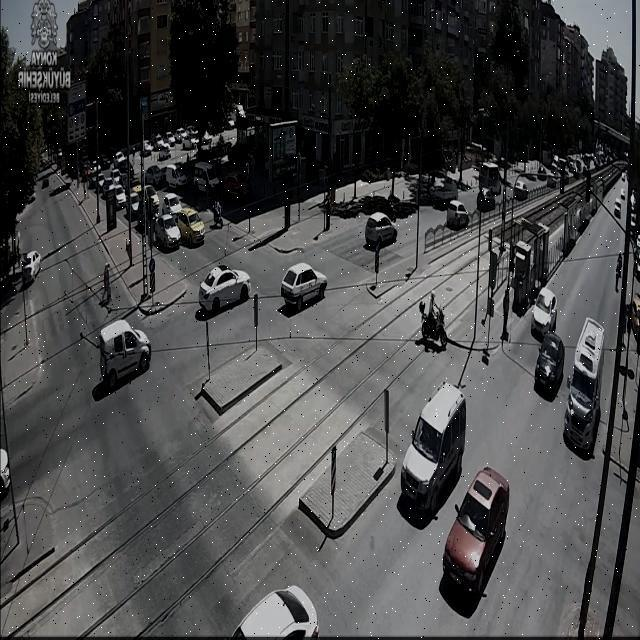Car: (441, 465, 511, 601), (399, 381, 466, 515), (228, 586, 318, 638), (98, 320, 152, 386), (198, 266, 250, 312), (280, 263, 328, 310), (535, 328, 566, 396), (532, 287, 558, 336), (364, 212, 398, 248), (175, 207, 207, 245), (153, 213, 182, 251), (136, 185, 162, 217), (193, 162, 219, 194), (430, 178, 458, 204), (479, 162, 501, 194), (447, 200, 470, 229), (21, 251, 41, 282), (122, 189, 143, 217), (0, 448, 11, 499), (161, 192, 184, 216), (144, 164, 167, 187), (104, 184, 126, 208), (165, 163, 186, 188), (476, 189, 495, 212), (200, 136, 213, 152), (114, 152, 126, 166), (614, 200, 622, 218)
Cycle: (416, 288, 446, 355)
Truck: (562, 319, 606, 446)
